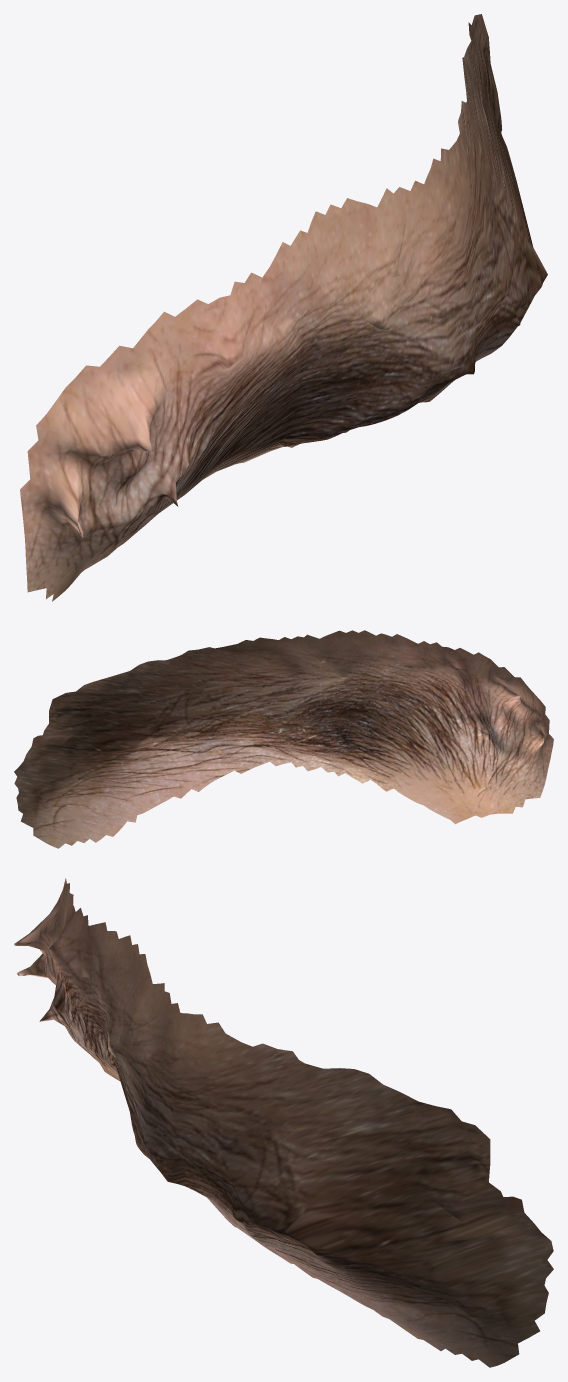
Rendered from eyebrow02left.obj.
3 views of the same model, one above another, from view 1: azimuth 30°, elevation 25°; view 2: azimuth 150°, elevation 25°; view 3: azimuth 270°, elevation 25° (orthographic). The views are drawn at different scales.
Parts seen in each view (by area): view 1: default; view 2: default; view 3: default.
Boxes of the visible parts, x1=… form: default: x1=20, y1=14, x2=547, y2=601; default: x1=14, y1=630, x2=553, y2=848; default: x1=14, y1=878, x2=553, y2=1367.
Size of the model in its own units: 62.76 by 28.36 by 48.56.
